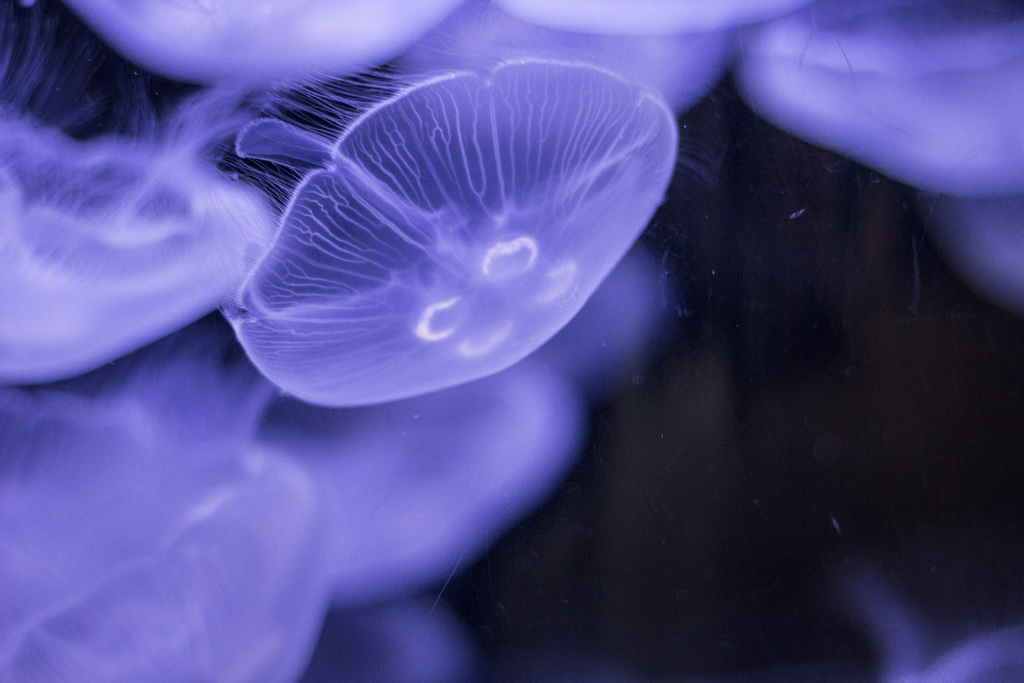Jellyfish: (0, 0, 1023, 682), (153, 46, 699, 426)
